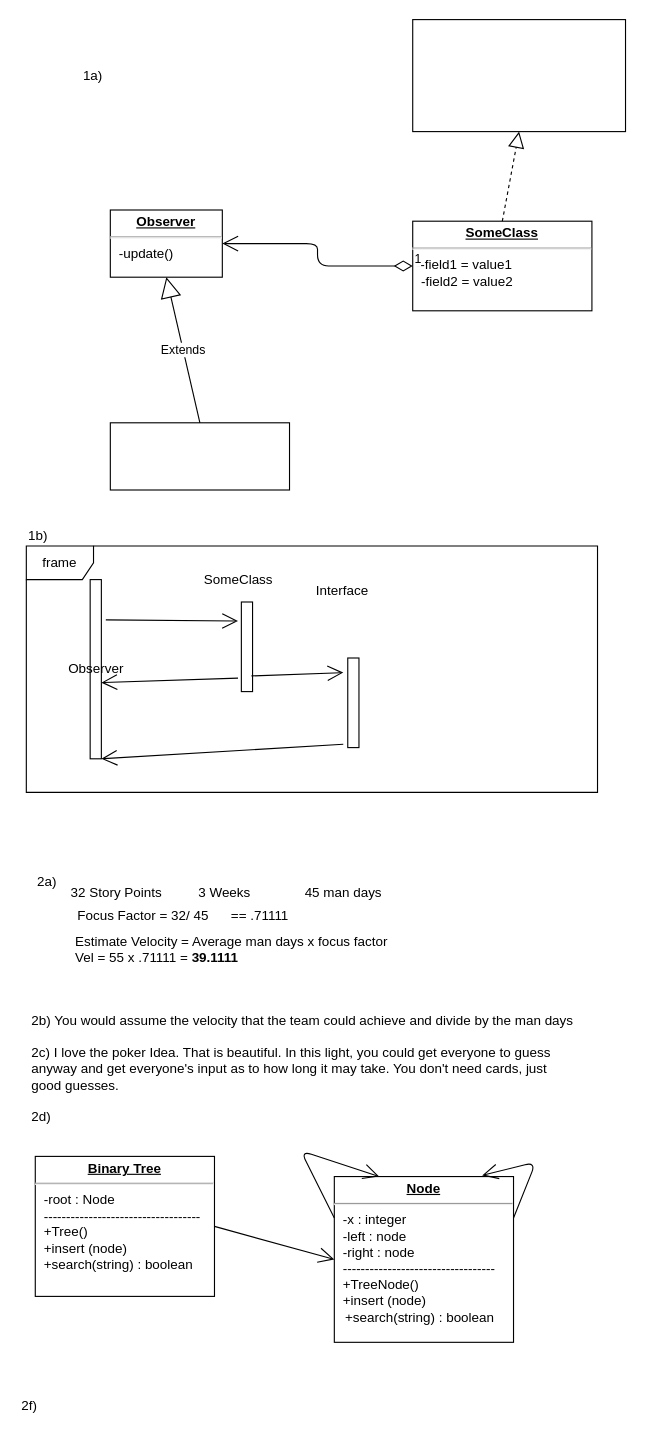
The diagram is 645 pixels wide and 1437 high, and some of its shapes have lost their labels. The shapes that lost their labels are listed below. From the top down, each one's centre as x and y in pixels, then its label:
At point 519,75: "<<Interface>> Interface + field1: Type + field2: Type".
At point 199,456: "Concrete Observer Update()".
